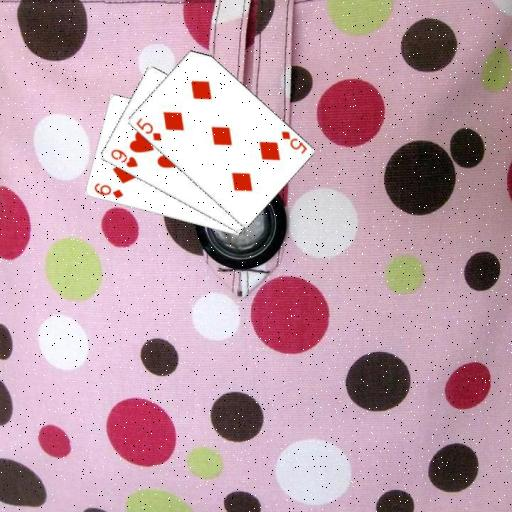5D: (133, 115, 163, 143), (278, 128, 308, 156)
6D: (91, 180, 125, 200)
9H: (107, 146, 139, 170)
